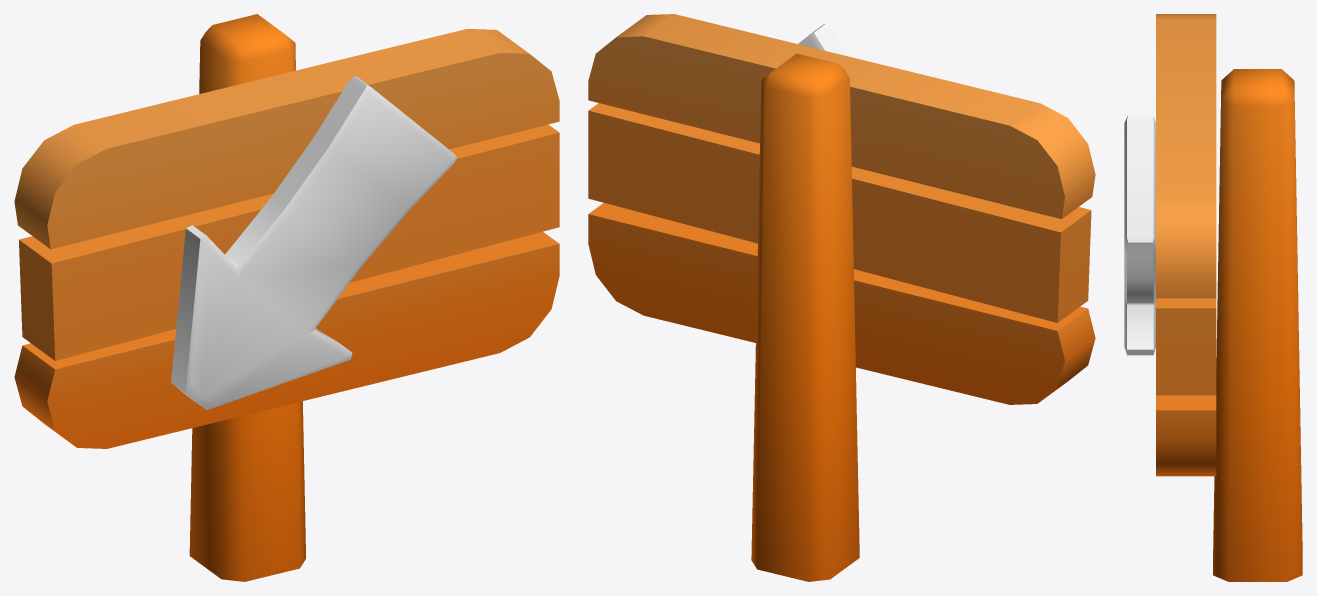
Rendered from Props_Wooden_Sign_08.fbx.
3 views of the same model, side by side, from view 1: azimuth 30°, elevation 25°; view 2: azimuth 150°, elevation 25°; view 3: azimuth 270°, elevation 25° (orthographic). The views are drawn at different scales.
Parts seen in each view (by area): view 1: Props_Wooden_Sign_08; view 2: Props_Wooden_Sign_08; view 3: Props_Wooden_Sign_08.
Boxes of the visible parts, x1,y1,x2,y2 form: Props_Wooden_Sign_08: (14, 14, 559, 581); Props_Wooden_Sign_08: (588, 14, 1095, 581); Props_Wooden_Sign_08: (1124, 14, 1302, 581).
Bounding box in the file's own units: 90.11 × 88.8 × 29.65.
